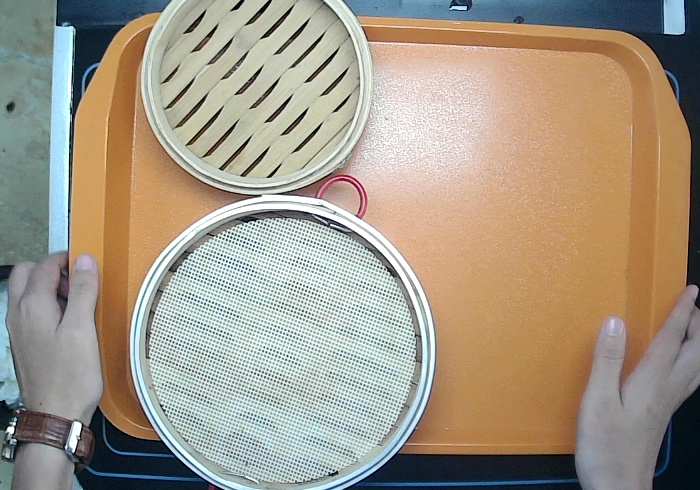ZNLD-Da_Zheng_Long: (126, 191, 439, 490)
ZNLD-Xiao_Zheng_Long: (139, 1, 374, 200)
